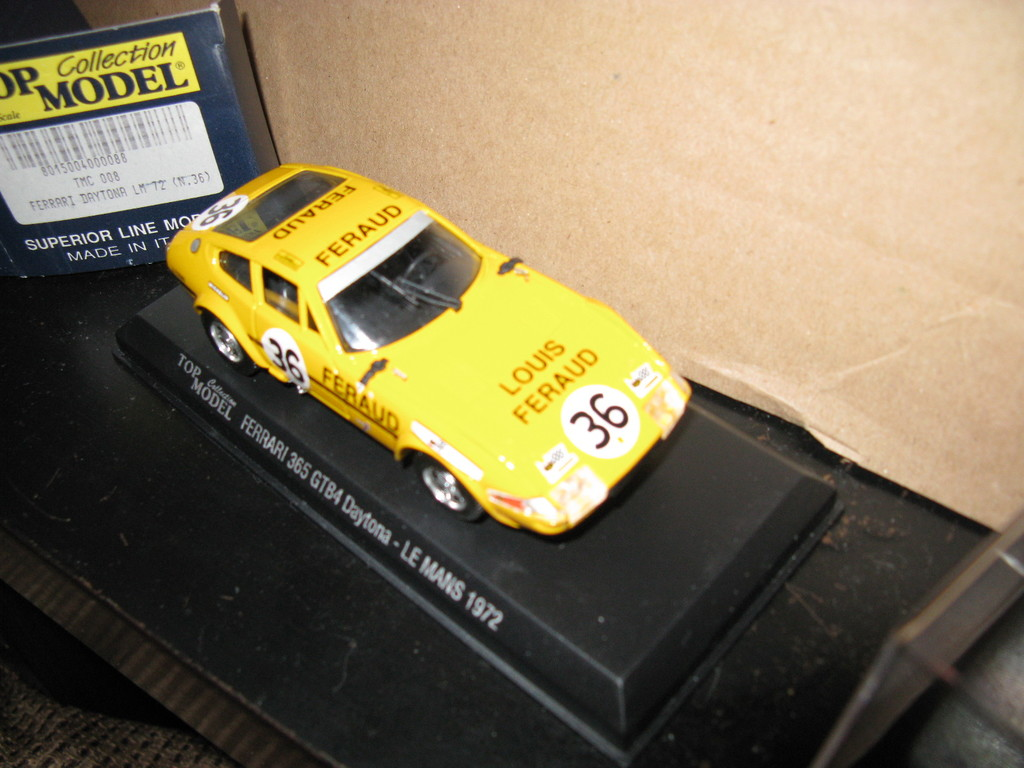mobil: (169, 165, 694, 527)
